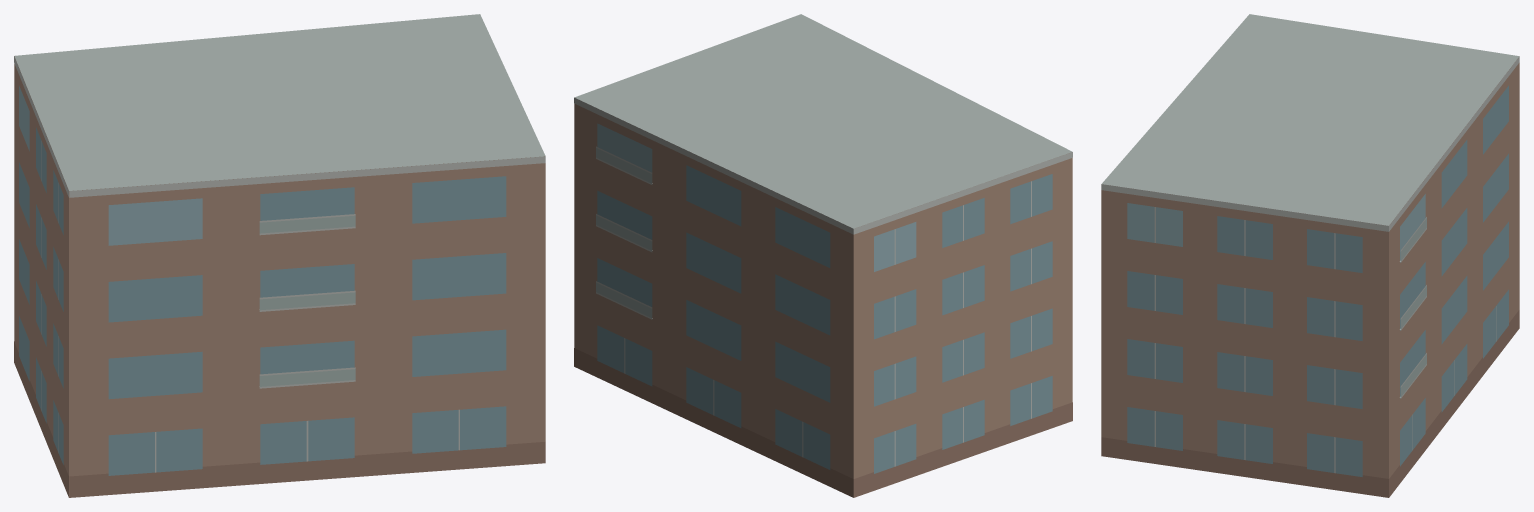
The model's file is survey-upis-32529295.glb.
3 views of the same model, side by side, from view 1: azimuth 30°, elevation 25°; view 2: azimuth 150°, elevation 25°; view 3: azimuth 270°, elevation 25° (orthographic). The views are drawn at different scales.
Parts seen in each view (by area): view 1: survey-upis-32529295.tmp; view 2: survey-upis-32529295.tmp; view 3: survey-upis-32529295.tmp.
Part boxes in pixels (x1=…): survey-upis-32529295.tmp: x1=14, y1=14, x2=545, y2=497; survey-upis-32529295.tmp: x1=574, y1=14, x2=1072, y2=497; survey-upis-32529295.tmp: x1=1101, y1=14, x2=1519, y2=497.
Bounding box in the file's own units: 18.38 × 11 × 15.34.
